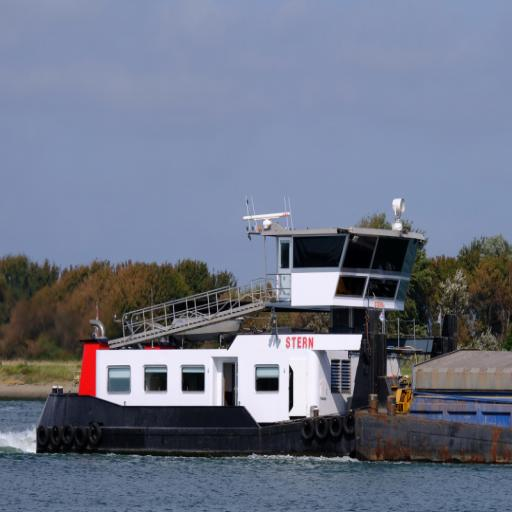tugboat: (34, 195, 462, 469)
